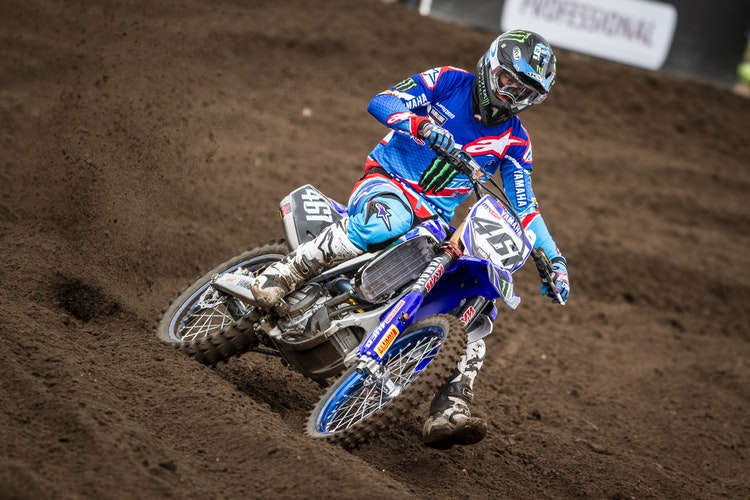helmet: (477, 33, 563, 128)
